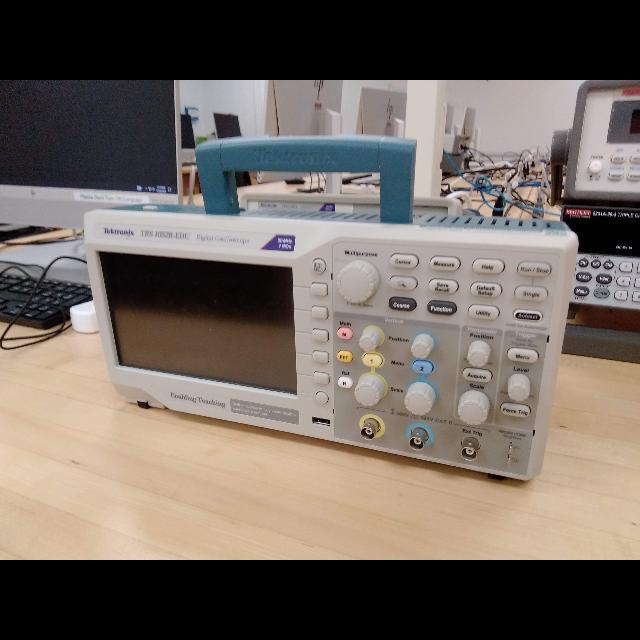Digital-Oscilloscope: (87, 210, 572, 479)
